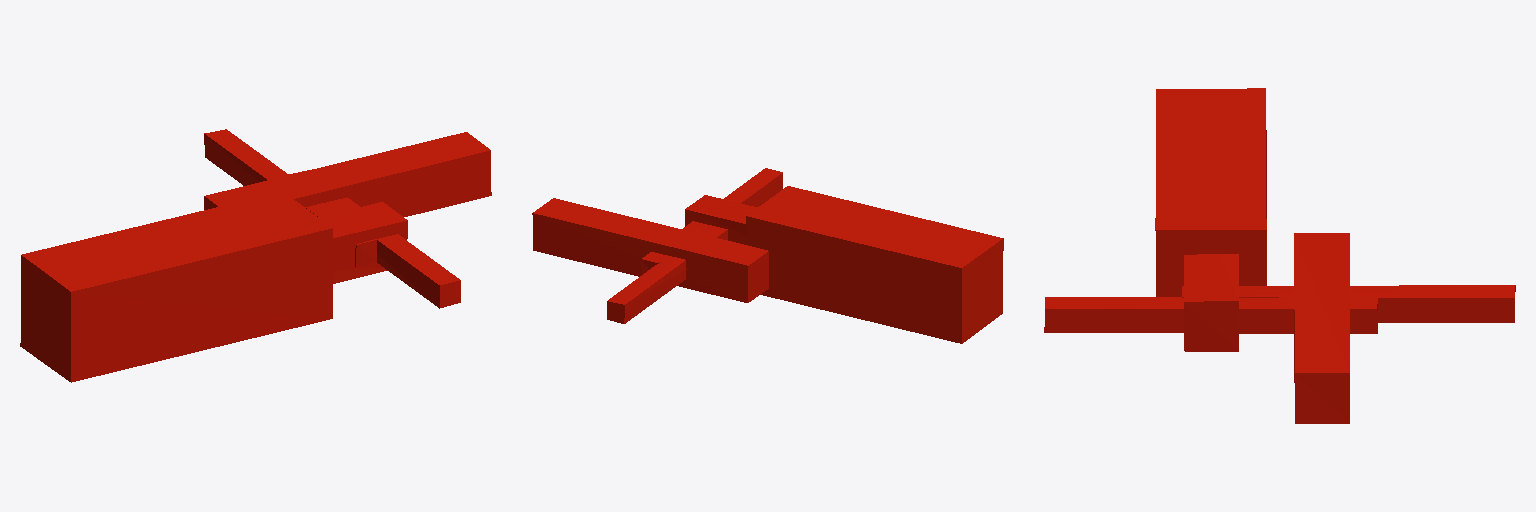
URDF robot description (procedural_obj_0004):
<?xml version="0.0" ?>
<!-- based on data/cube.urdf -->
<robot name="procedural_obj_0004">
  <link name="procedural_obj_0004">
    <contact>
      <lateral_friction value="1.0"/>
      <rolling_friction value="0.0"/>
      <contact_cfm value="0.0"/>
      <contact_erp value="1.0"/>
    </contact>
    <inertial>
      <origin rpy="0 0 0" xyz="0 0 0"/>
       <mass value="1.0"/>
       <inertia ixx="1" ixy="0" ixz="0" iyy="1" iyz="0" izz="1"/>
    </inertial>
    <visual>
      <origin rpy="0 0 0" xyz="0 0 0"/>
      <geometry>
	<mesh filename="0004.obj" scale="1 1 1"/>
      </geometry>
       <material name="random_colour">
        <color rgba="0.825 0.133 0.059 1"/>
      </material>
    </visual>
    <collision>
      <origin rpy="0 0 0" xyz="0 0 0"/>
      <geometry>
	<mesh filename="0004.vhacd.obj" scale="1 1 1"/>
      </geometry>
    </collision>
  </link>
</robot>

--- Facts derived from the render (not from the file) ---
The picture shows the robot from 3 angles, left to right: view 1: azimuth 30°, elevation 25°; view 2: azimuth 150°, elevation 25°; view 3: azimuth 270°, elevation 25°; orthographic projection.
Robot: procedural_obj_0004 — 1 links, 0 joints (none); root link procedural_obj_0004; default pose: all joints at 0.
Visible links, largest first — view 1: procedural_obj_0004; view 2: procedural_obj_0004; view 3: procedural_obj_0004.
Boxes of the visible links, x1=… form: procedural_obj_0004: x1=20, y1=129, x2=491, y2=382; procedural_obj_0004: x1=532, y1=168, x2=1003, y2=343; procedural_obj_0004: x1=1044, y1=88, x2=1515, y2=423.
Size in the robot's own frame: 0.1663 by 0.1274 by 0.0302 metres.
1 mesh visuals loaded from 1 distinct referenced files (1 OBJ).